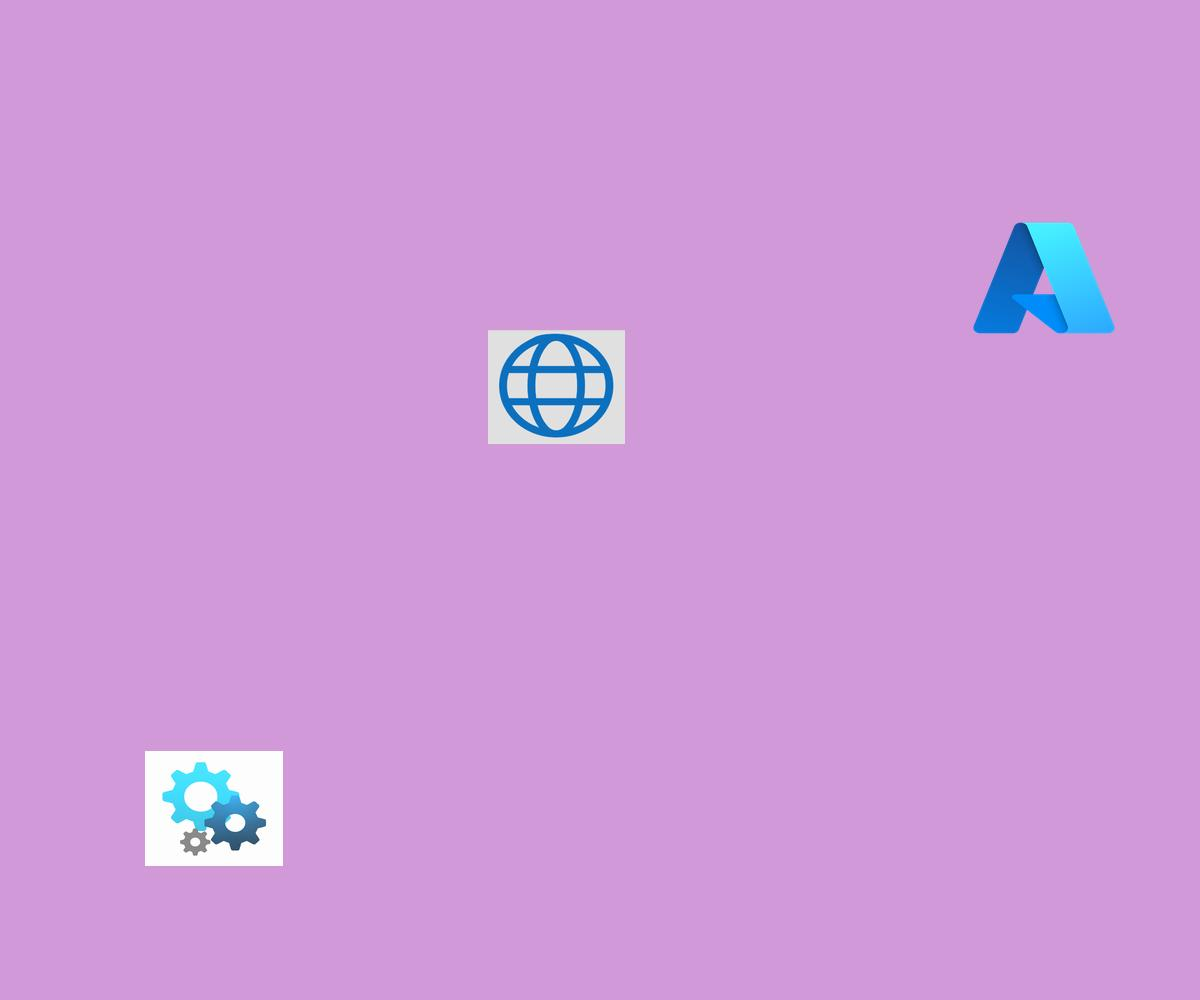Azure_api: (145, 751, 283, 866)
Azure_http: (488, 330, 625, 444)
Azure_services: (967, 214, 1121, 342)
